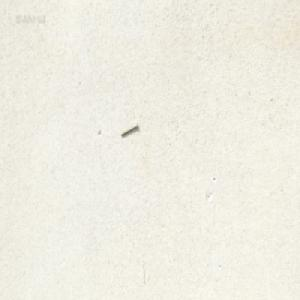Bolt: (120, 122, 138, 136)
